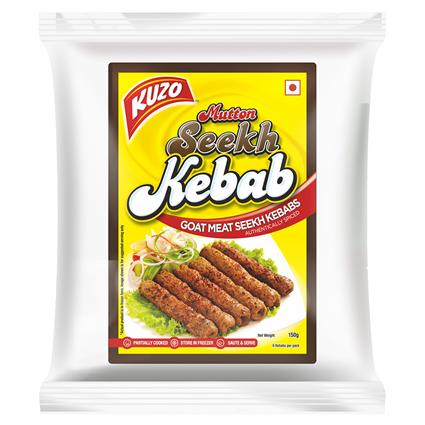nonveg_red: (284, 77, 302, 96)
